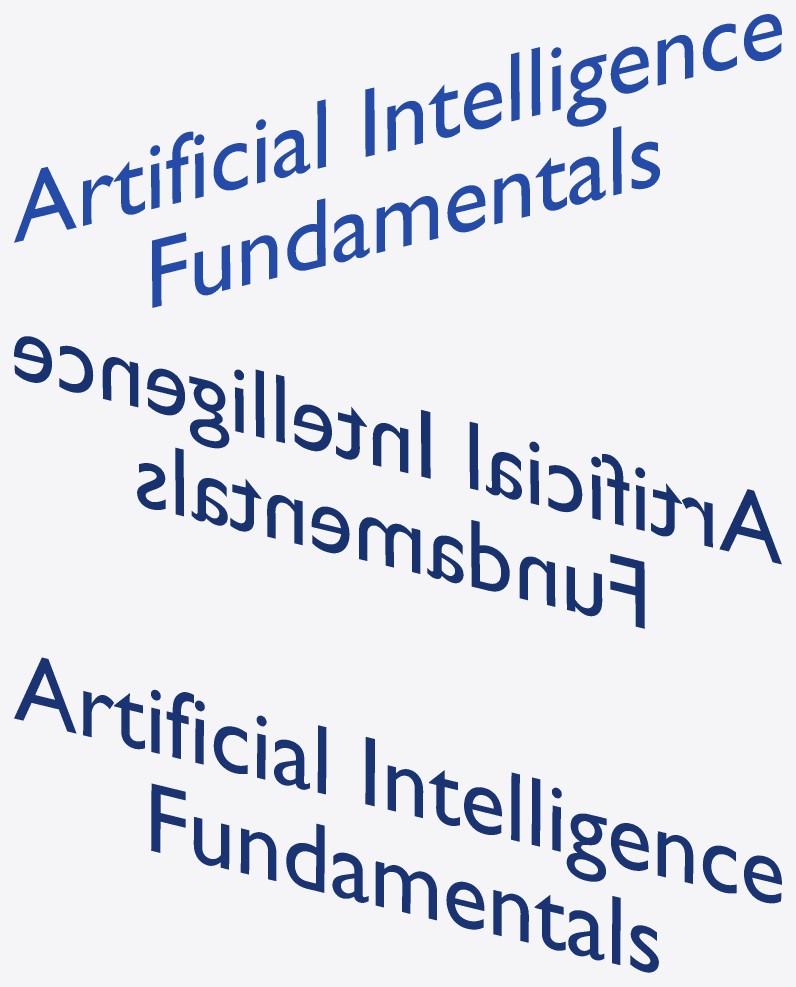
Rendered from AIFundamentals.glb.
3 renders of one model, top to bottom at view 1: azimuth 30°, elevation 25°; view 2: azimuth 150°, elevation 25°; view 3: azimuth 330°, elevation 25°, orthographic.
Parts seen in each view (by area): view 1: Text.001; view 2: Text.001; view 3: Text.001.
Part boxes in pixels (left/top/right/bottom): Text.001: left=14, top=14, right=781, bottom=307; Text.001: left=14, top=336, right=781, bottom=628; Text.001: left=14, top=657, right=781, bottom=972.
Bounding box in the file's own units: 8.17 × 1.7 × 0.0175.
